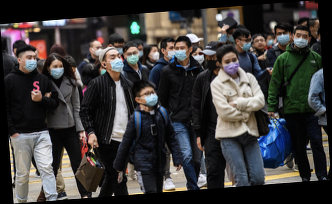with_mask: (106, 52, 125, 72), (140, 89, 159, 107), (221, 56, 240, 74), (21, 53, 38, 71), (204, 55, 220, 72), (295, 31, 309, 49), (50, 62, 65, 78), (175, 44, 189, 61), (276, 28, 290, 45), (239, 36, 253, 51), (126, 49, 139, 65), (192, 50, 205, 64), (166, 44, 177, 59), (113, 42, 125, 55), (149, 48, 160, 60), (93, 44, 103, 56), (266, 37, 274, 47)
without_mask: (253, 37, 266, 49)
